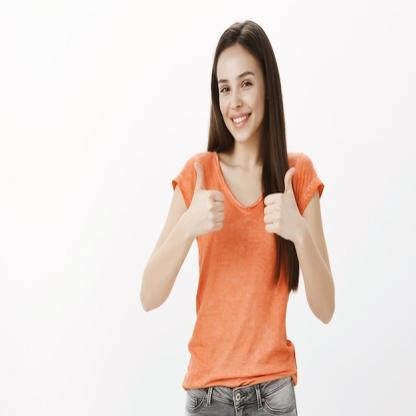thumb_up: (182, 158, 226, 237), (261, 162, 300, 241)
